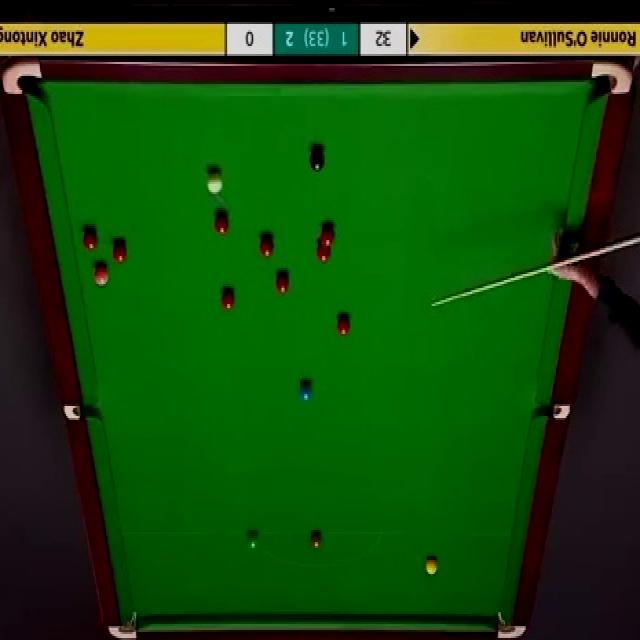black-ball: (309, 148, 326, 173)
blue-ball: (299, 379, 312, 401)
brown-ball: (310, 530, 322, 547)
green-ball: (247, 530, 258, 550)
pink-ball: (92, 262, 109, 287)
red-ball: (82, 227, 99, 253), (220, 288, 235, 313), (214, 212, 230, 234), (259, 233, 273, 258), (320, 227, 336, 247), (112, 241, 127, 262), (336, 316, 350, 338), (275, 273, 288, 296), (316, 243, 332, 261)
white-ball: (205, 167, 223, 195)
yellow-ball: (424, 554, 438, 574)
